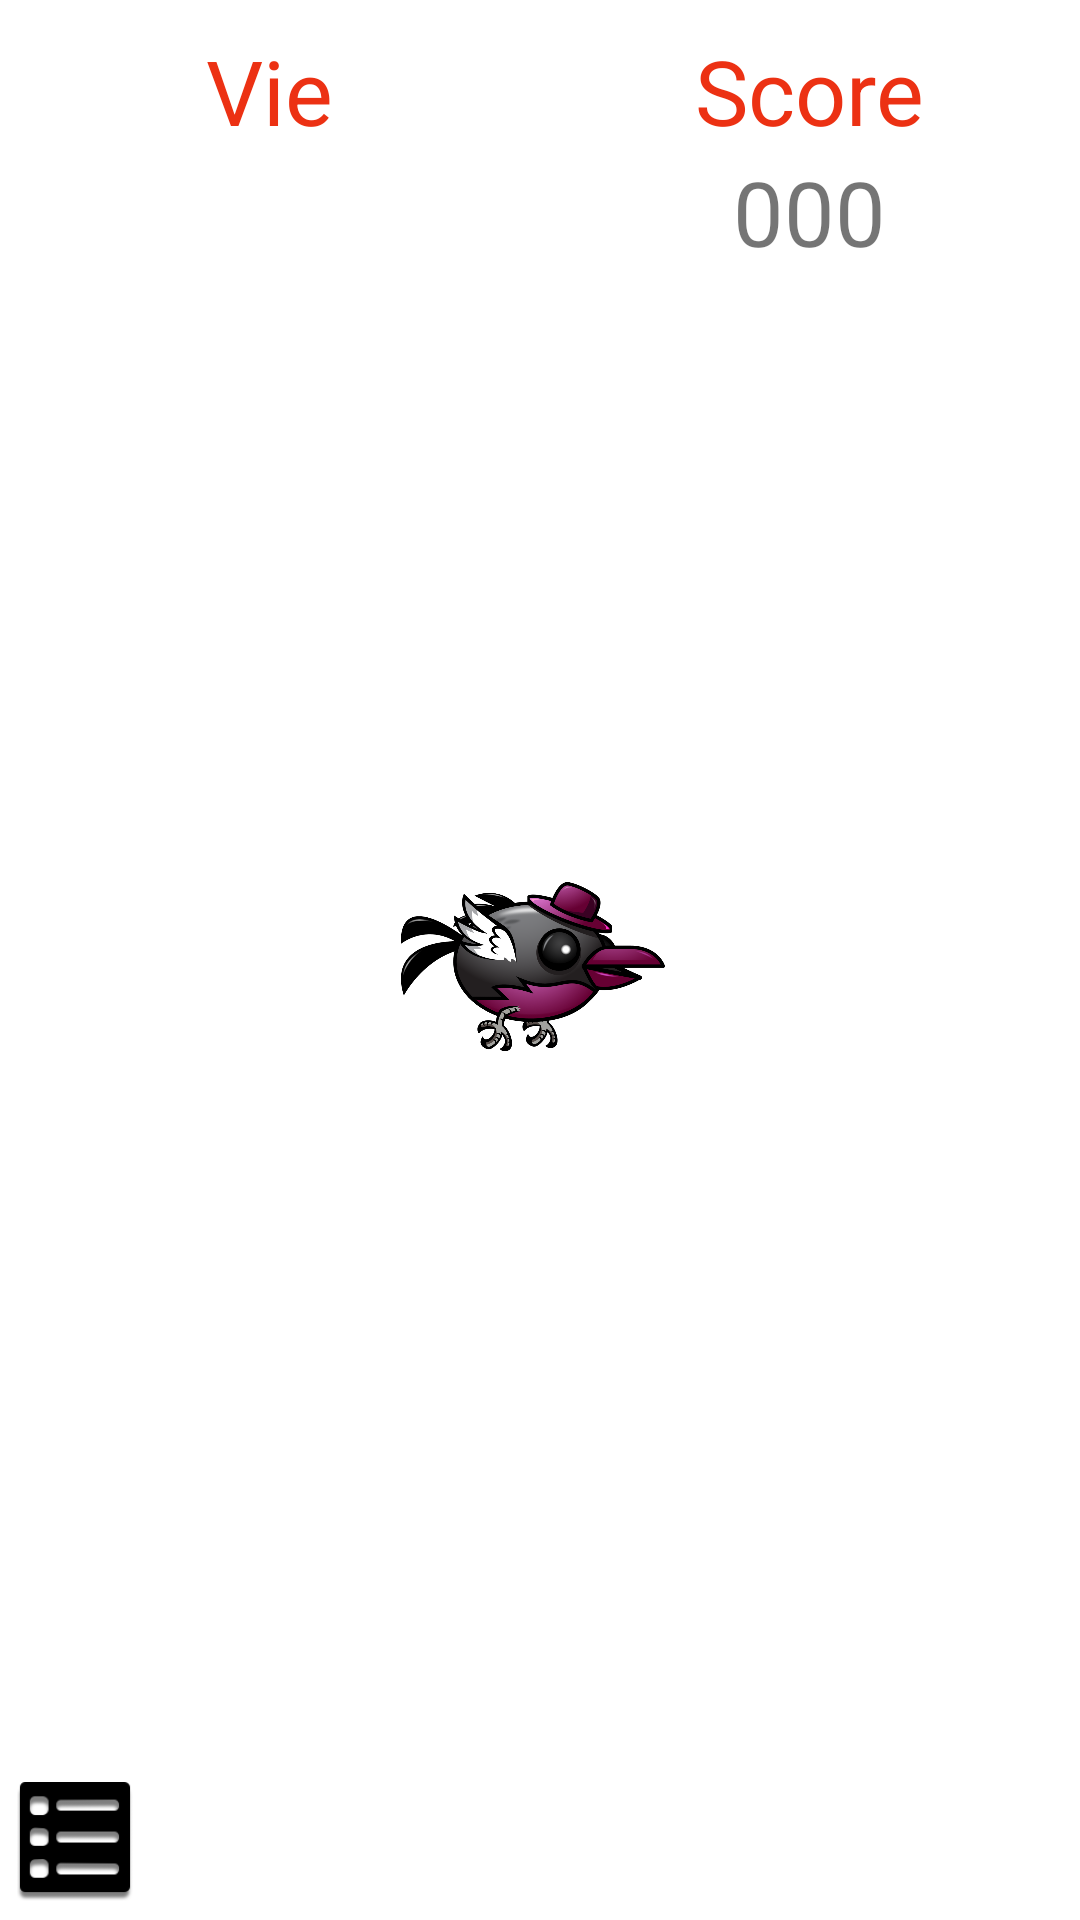

Icons on this 1080 x 1920 Android screen, each with the point to tap as point (x, y):
menu: point (75, 1840)
